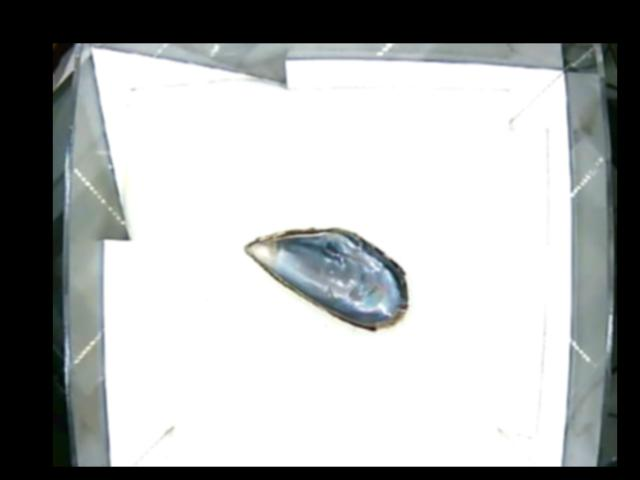Shell: (245, 225, 409, 337)
